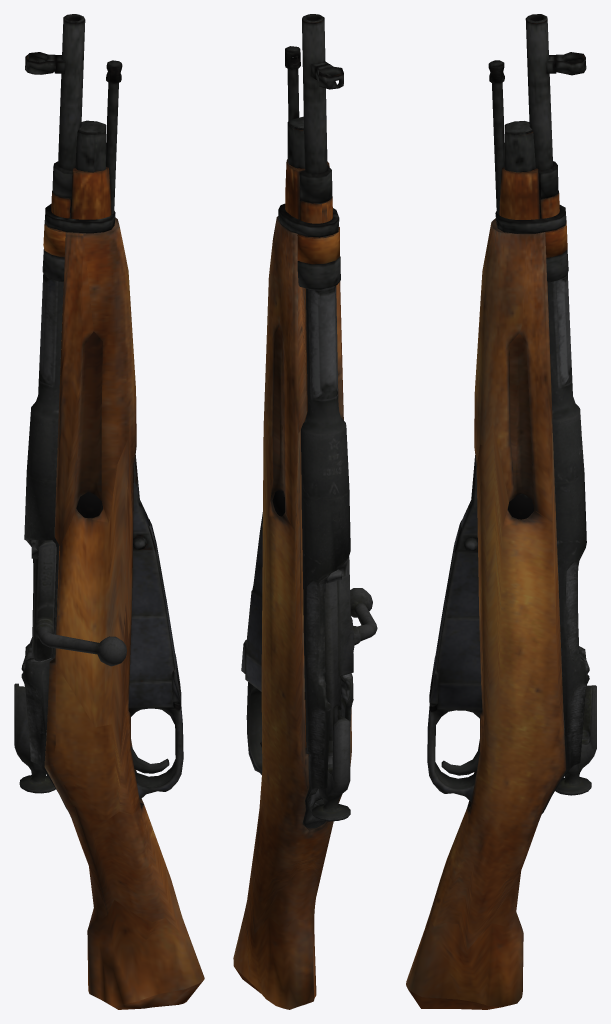
The model's file is MosinNagantObrez.fbx.
The picture shows the model from 3 angles, left to right: view 1: azimuth 90°, elevation 25°; view 2: azimuth 210°, elevation 25°; view 3: azimuth 270°, elevation 25°; orthographic projection. The views are drawn at different scales.
Parts seen in each view (by area): view 1: Mosin.001; view 2: Mosin.001; view 3: Mosin.001.
Part boxes in pixels (box(x1,y1,x2,y2)): Mosin.001: box(14, 14, 204, 1009); Mosin.001: box(233, 14, 377, 1009); Mosin.001: box(406, 14, 596, 1009).
Bounding box in the file's own units: 0.0414 × 0.3672 × 0.0641.
